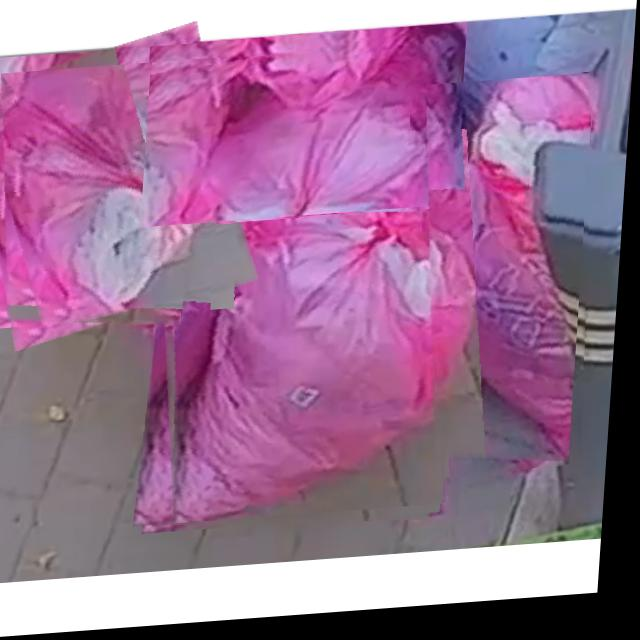other_trashbag: (172, 161, 462, 527), (429, 83, 595, 473), (2, 68, 223, 328), (182, 35, 465, 228), (156, 223, 165, 228), (176, 224, 182, 228), (172, 224, 174, 228)
